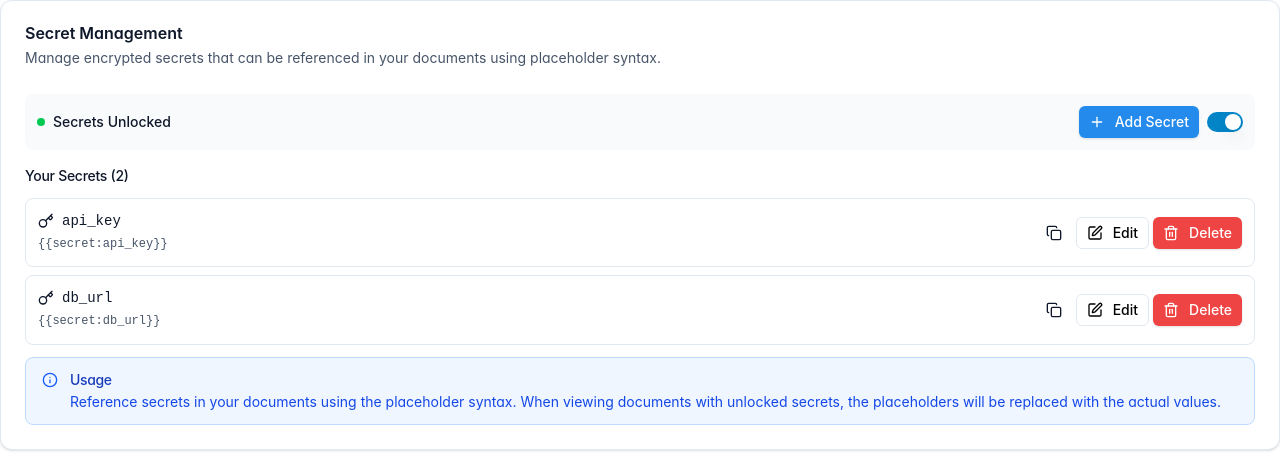
SecretManager › locks secrets from the toggle
This screenshot has width=1280, height=468.
Expected: the heading "Your Secrets (2)" is shown, [25, 166, 129, 186]
Click the switch at (1225,122), box [1207, 112, 1243, 132]
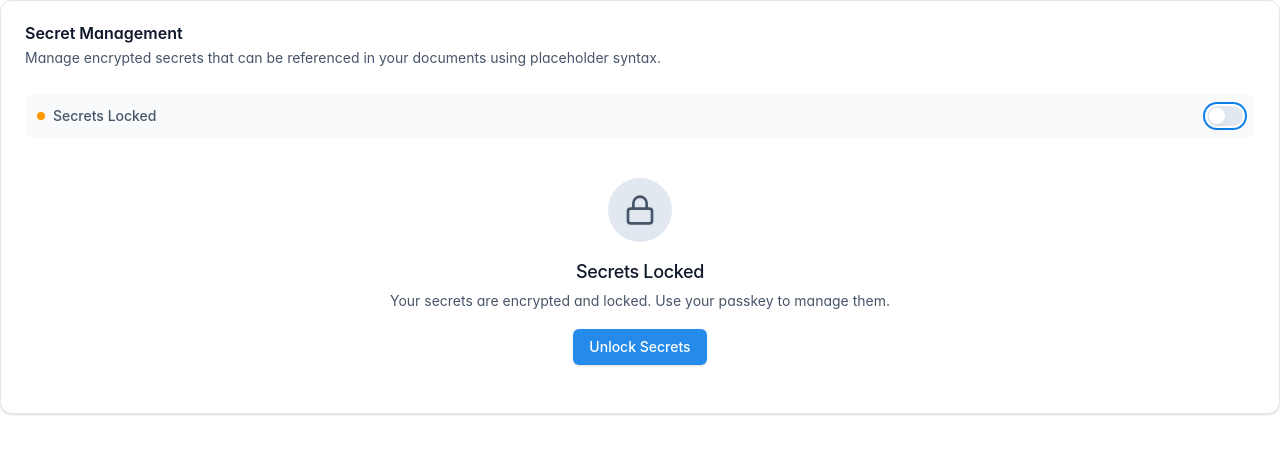
Expected: the button "Unlock Secrets" is shown, [573, 328, 707, 364]
